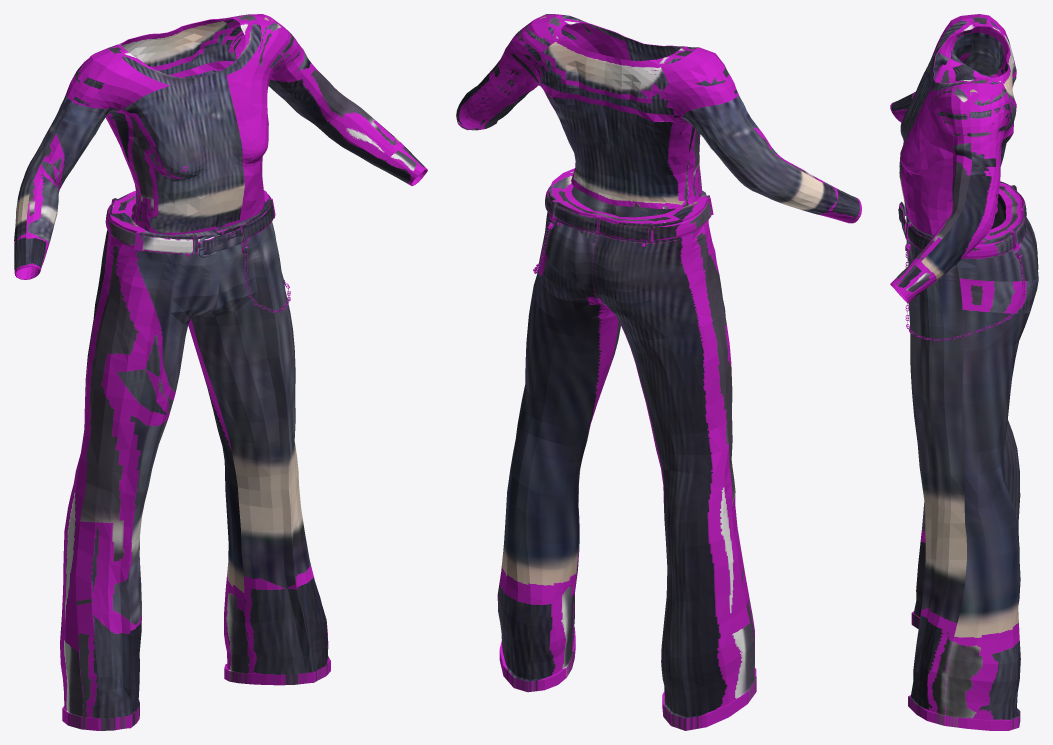
3 renders of one model, left to right at view 1: azimuth 30°, elevation 25°; view 2: azimuth 150°, elevation 25°; view 3: azimuth 270°, elevation 25°, orthographic. The views are drawn at different scales.
Bounding box in the file's own units: 0.5262 × 0.8207 × 0.1731.
1 material, 1 textured.
